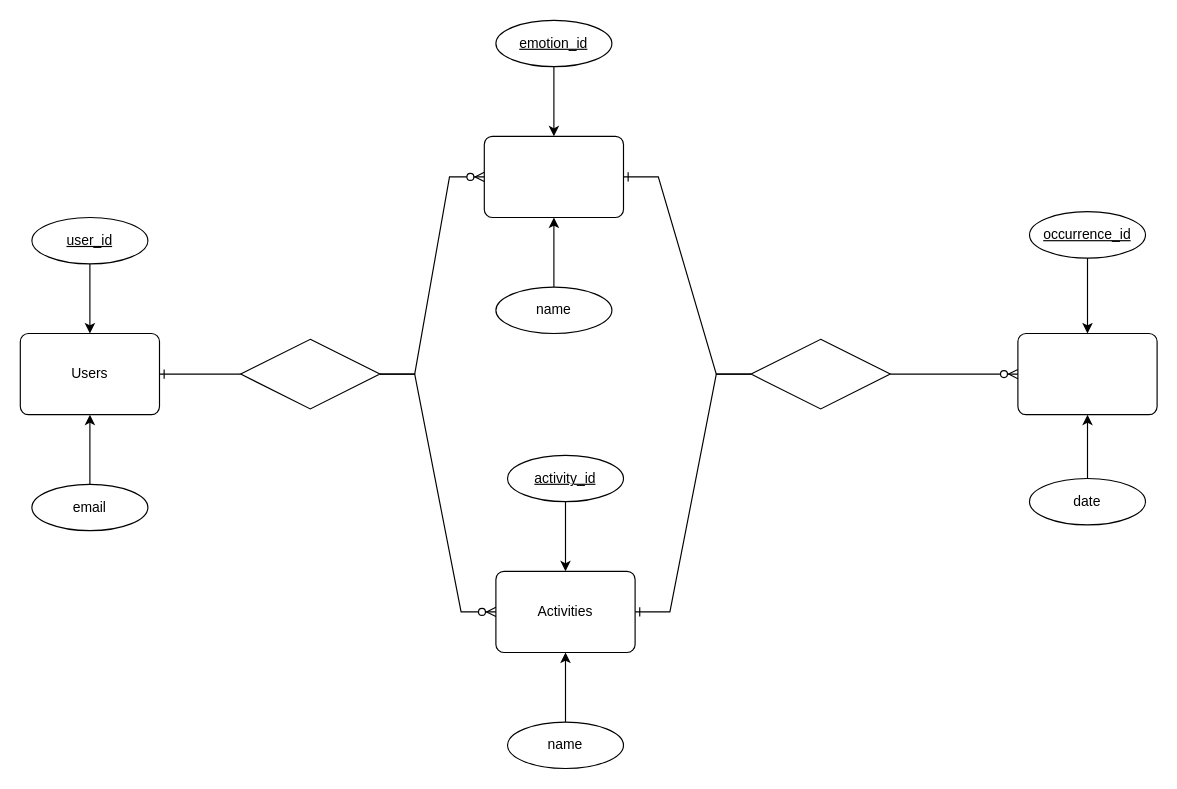
This 1177x789 diagram has some shape labels left out. Here are the shapes that lost their labels. From the top down, the centre of each, then its label:
At point (553, 176): "Emotions".
At point (310, 373): "기록할 내용".
At point (820, 373): "기록의 발생".
At point (1087, 373): "Occurrences".
